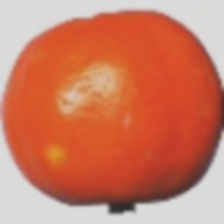tangerine: (6, 33, 179, 187)
